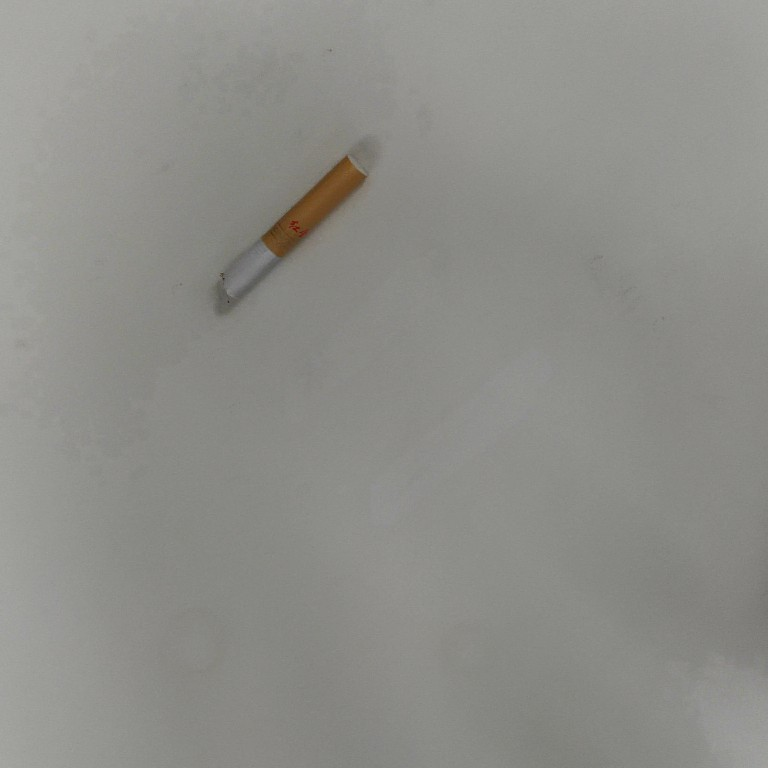cigarette: (216, 150, 372, 305)
